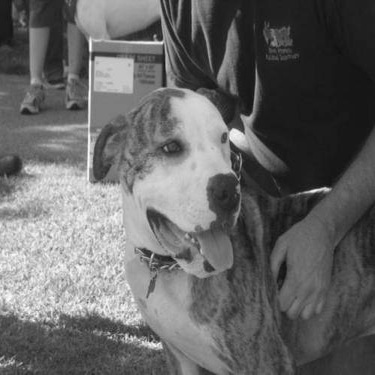dog: (84, 80, 372, 372)
